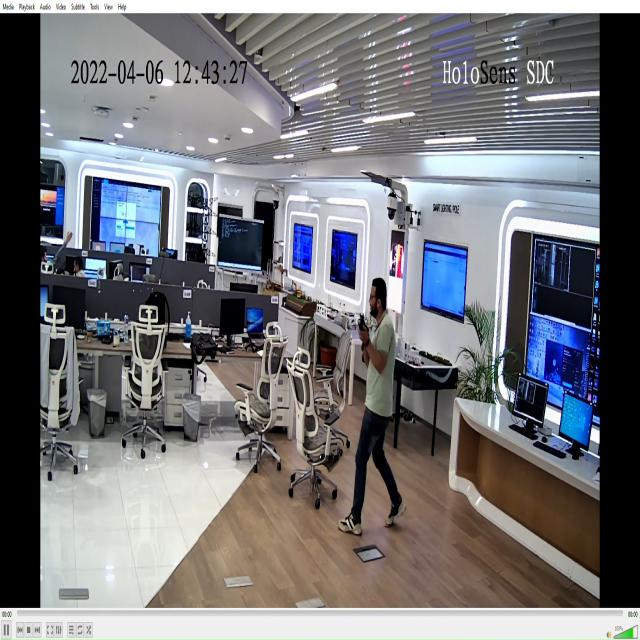long weapon: (357, 311, 373, 352)
